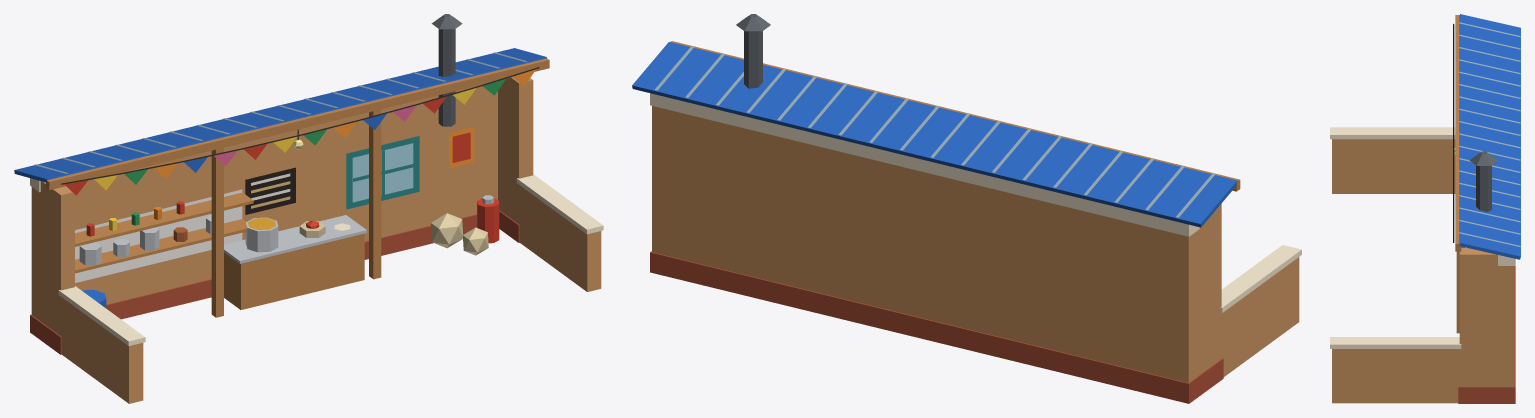
Rendered from hut_1.glb.
The picture shows the model from 3 angles, left to right: view 1: azimuth 30°, elevation 25°; view 2: azimuth 150°, elevation 25°; view 3: azimuth 270°, elevation 25°; orthographic projection. The views are drawn at different scales.
Parts seen in each view (by area): view 1: hut_1; view 2: hut_1; view 3: hut_1.
Part boxes in pixels (x1,y1,x2,y2): hut_1: [14, 14, 603, 403]; hut_1: [632, 14, 1301, 403]; hut_1: [1330, 14, 1520, 403].
Size of the model in its own units: 8.9 by 3.96 by 3.14.
Materials: 1 (1 with a texture image).
